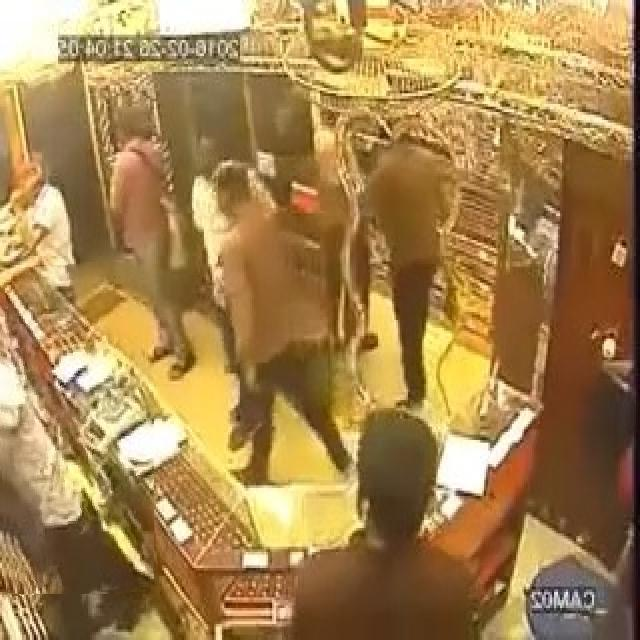Shoplifting: (0, 261, 154, 594)
